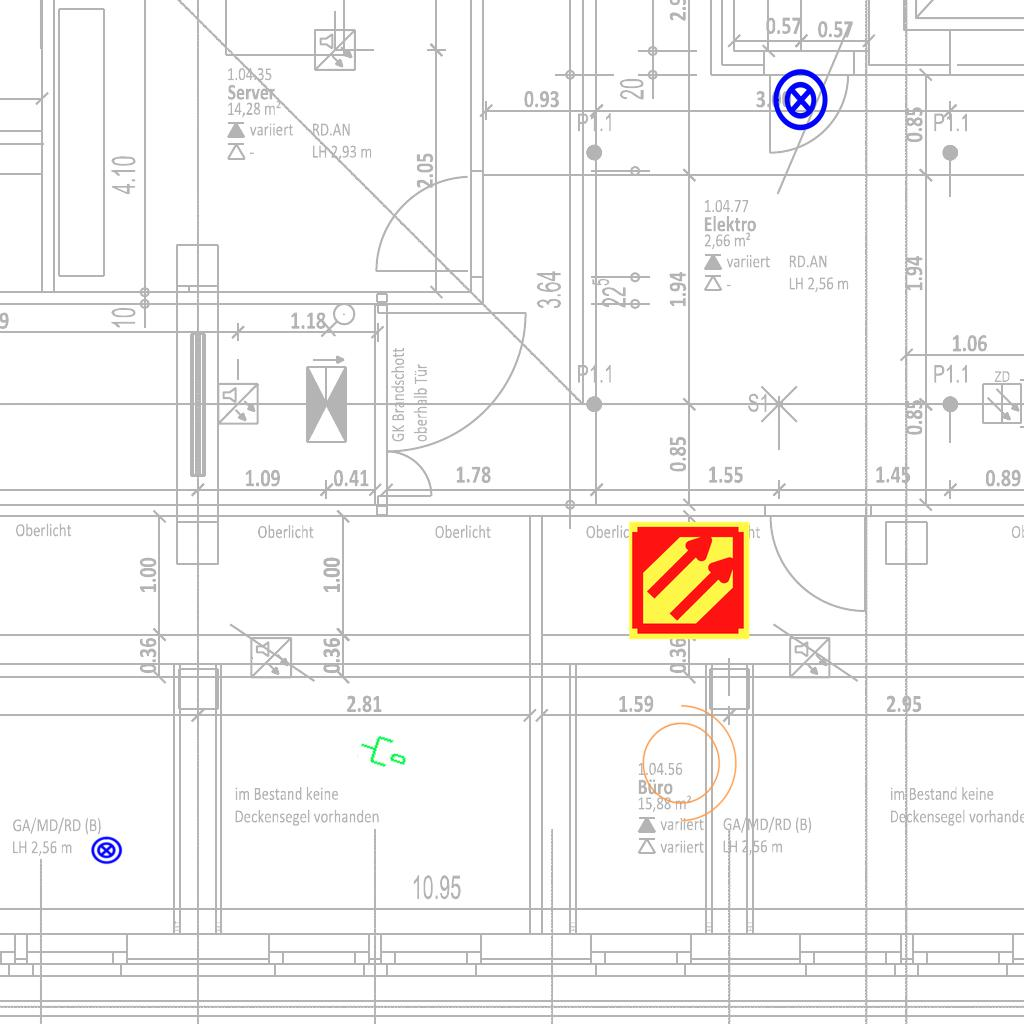ASR_Ansaugrauchmelder: (627, 518, 752, 643)
Datenanschluss_einfach: (354, 727, 414, 775)
Scheinwerfer_fuer_Alarmbeleuchtung: (630, 694, 742, 826)
Taster_beleuchtet: (768, 67, 834, 133), (90, 834, 123, 867)
